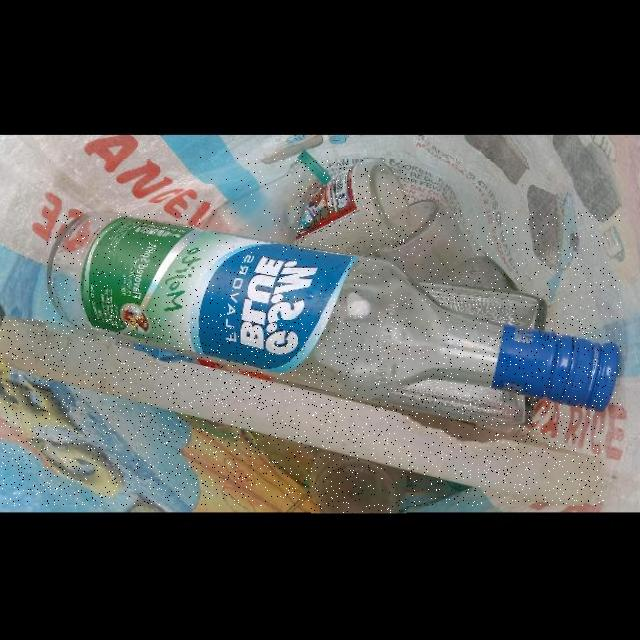glass: (45, 212, 621, 410), (200, 151, 331, 243), (295, 160, 409, 254), (311, 449, 407, 514)
styrofoam: (0, 317, 604, 505)
